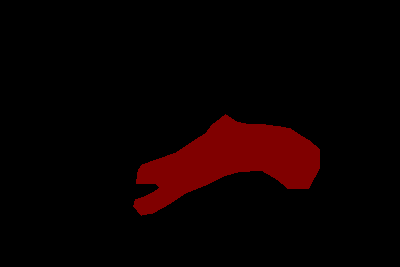fire: (133, 114, 319, 215)
